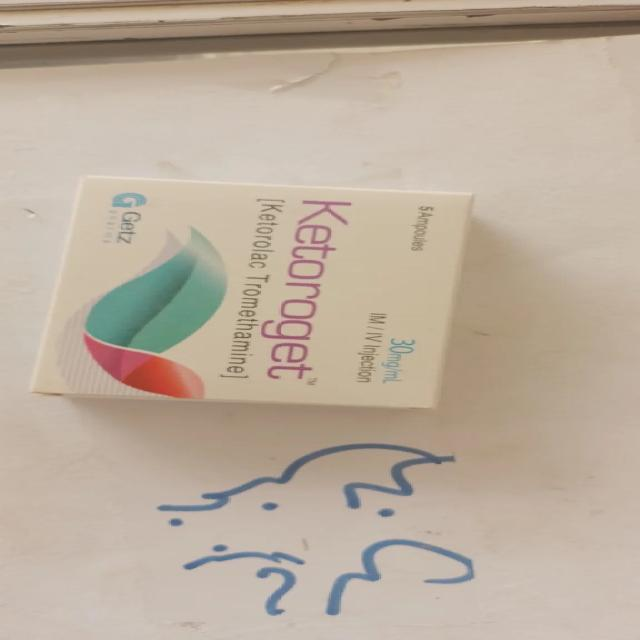drug-name: (261, 194, 353, 381)
